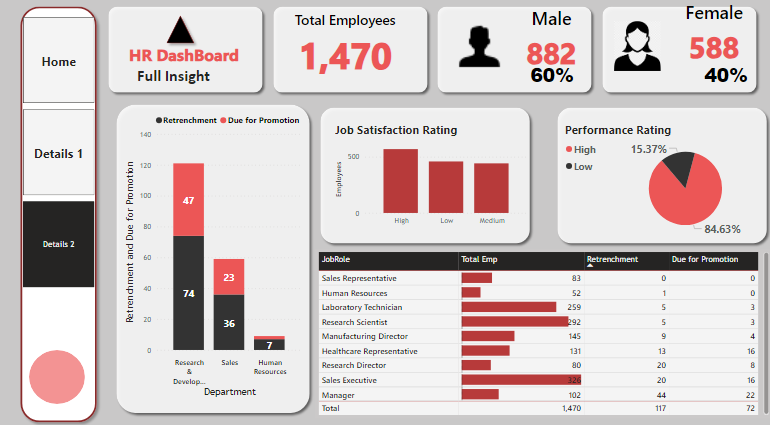

The dashboard page shown, as its layout file describes it:
{"tool":"powerbi","page":{"name":"Details 2","canvas":[1280,720],"ordinal":2},"visuals":[{"type":"shape","box":[916.8,183.4,363.2,242.1],"z":0},{"type":"shape","box":[176,16,272,160],"z":1000},{"type":"shape","box":[448,16,272,160],"z":2000},{"type":"shape","box":[720,16,272,160],"z":3000},{"type":"shape","box":[992,16,272,160],"z":4000},{"type":"shape","box":[190.5,178,336.5,527],"z":5000},{"type":"shape","box":[272,32,64,64],"z":6000},{"type":"textbox","box":[208,80,208,80],"z":7000},{"type":"card","title":"Total Employees","fields":{"Values":["All Measures.Total Emp"]},"box":[480,32,192,112],"z":8000},{"type":"card","title":"Male","fields":{"Values":["All Measures.Male"]},"box":[819.8,24.7,193,112.2],"z":9000},{"type":"card","title":"Female","fields":{"Values":["All Measures.Female"]},"box":[1088.3,15.4,191.7,111.2],"z":10000},{"type":"card","title":"Male","fields":{"Values":["All Measures.Male %"]},"box":[855.6,95.8,121.5,87.3],"z":11000},{"type":"card","title":"Male","fields":{"Values":["All Measures.Female %"]},"box":[1143.1,95.8,121.5,87.3],"z":12000},{"type":"image","box":[744.4,35.9,104.4,102.7],"z":13000},{"type":"image","box":[1014.8,42.8,87.3,95.8],"z":14000},{"type":"columnChart","fields":{"Category":["HR Analytics Data.Department"],"Y":["All Measures.Retrenchment","All Measures.Due for Promotion"]},"box":[208.3,192.3,302.6,482.4],"z":15000},{"type":"pieChart","title":"Performance Rating","fields":{"Category":["HR Analytics Data.Performance Rating"],"Y":["All Measures.Total Emp"]},"box":[932.9,215.4,347.1,194],"z":16000},{"type":"shape","box":[527,183.4,363.2,242.1],"z":17000},{"type":"columnChart","title":"Job Satisfaction Rating","fields":{"Category":["HR Analytics Data.Job Satisfaction Rating"],"Y":["All Measures.Total Emp"]},"box":[553.7,215.4,329.3,178],"z":18000},{"type":"tableEx","fields":{"Values":["HR Analytics Data.JobRole","All Measures.Total Emp","All Measures.Retrenchment","All Measures.Due for Promotion"]},"box":[526.2,425.6,753.8,278.8],"z":19000},{"type":"shape","box":[32,16,144,704],"z":20000},{"type":"shape","box":[54.8,592.1,92.4,89],"z":21000},{"type":"pageNavigator","box":[44.5,42.8,118.1,448.3],"z":22000}]}

Visuals, with their boxes in screenshot pixels (x1, y1, x2, y2), scaled from the page's 1280x720 canvas onto the 770x425 screenshot:
shape: (left=552, top=108, right=769, bottom=251)
shape: (left=106, top=9, right=270, bottom=104)
shape: (left=270, top=9, right=433, bottom=104)
shape: (left=433, top=9, right=597, bottom=104)
shape: (left=597, top=9, right=760, bottom=104)
shape: (left=115, top=105, right=317, bottom=416)
shape: (left=164, top=19, right=202, bottom=57)
textbox: (left=125, top=47, right=250, bottom=94)
"Total Employees" card: (left=289, top=19, right=404, bottom=85)
"Male" card: (left=493, top=15, right=609, bottom=81)
"Female" card: (left=655, top=9, right=769, bottom=75)
"Male" card: (left=515, top=57, right=588, bottom=108)
"Male" card: (left=688, top=57, right=761, bottom=108)
image: (left=448, top=21, right=511, bottom=82)
image: (left=610, top=25, right=663, bottom=82)
columnChart - HR Analytics Data.Department x All Measures.Retrenchment: (left=125, top=114, right=307, bottom=398)
"Performance Rating" pieChart: (left=561, top=127, right=769, bottom=242)
shape: (left=317, top=108, right=536, bottom=251)
"Job Satisfaction Rating" columnChart: (left=333, top=127, right=531, bottom=232)
tableEx - HR Analytics Data.JobRole x All Measures.Total Emp: (left=317, top=251, right=769, bottom=416)
shape: (left=19, top=9, right=106, bottom=424)
shape: (left=33, top=350, right=89, bottom=402)
pageNavigator: (left=27, top=25, right=98, bottom=290)
